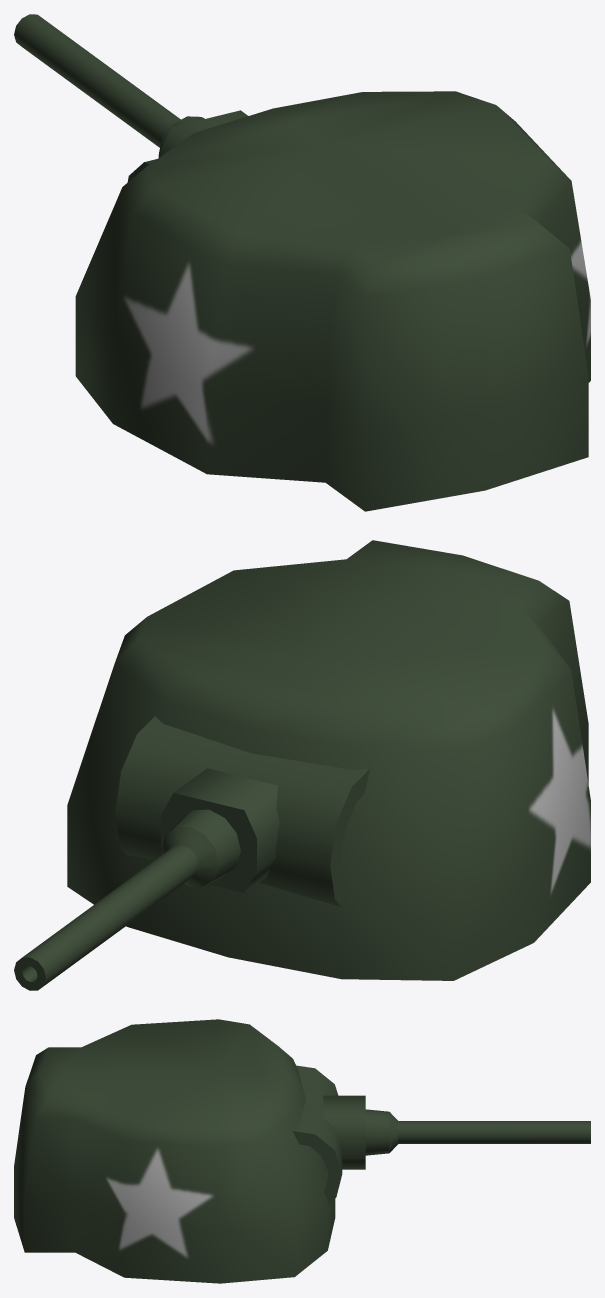
Rendered from tank_turret_sherman.FBX.
The picture shows the model from 3 angles, top to bottom: view 1: azimuth 30°, elevation 25°; view 2: azimuth 150°, elevation 25°; view 3: azimuth 270°, elevation 25°; orthographic projection. The views are drawn at different scales.
Parts seen in each view (by area): view 1: Cylinder050; view 2: Cylinder050; view 3: Cylinder050.
Part boxes in pixels (x1,y1,x2,y2): Cylinder050: [14, 14, 590, 511]; Cylinder050: [14, 540, 590, 990]; Cylinder050: [14, 1019, 590, 1283].
Size of the model in its own units: 9.8 by 18.13 by 5.03.
